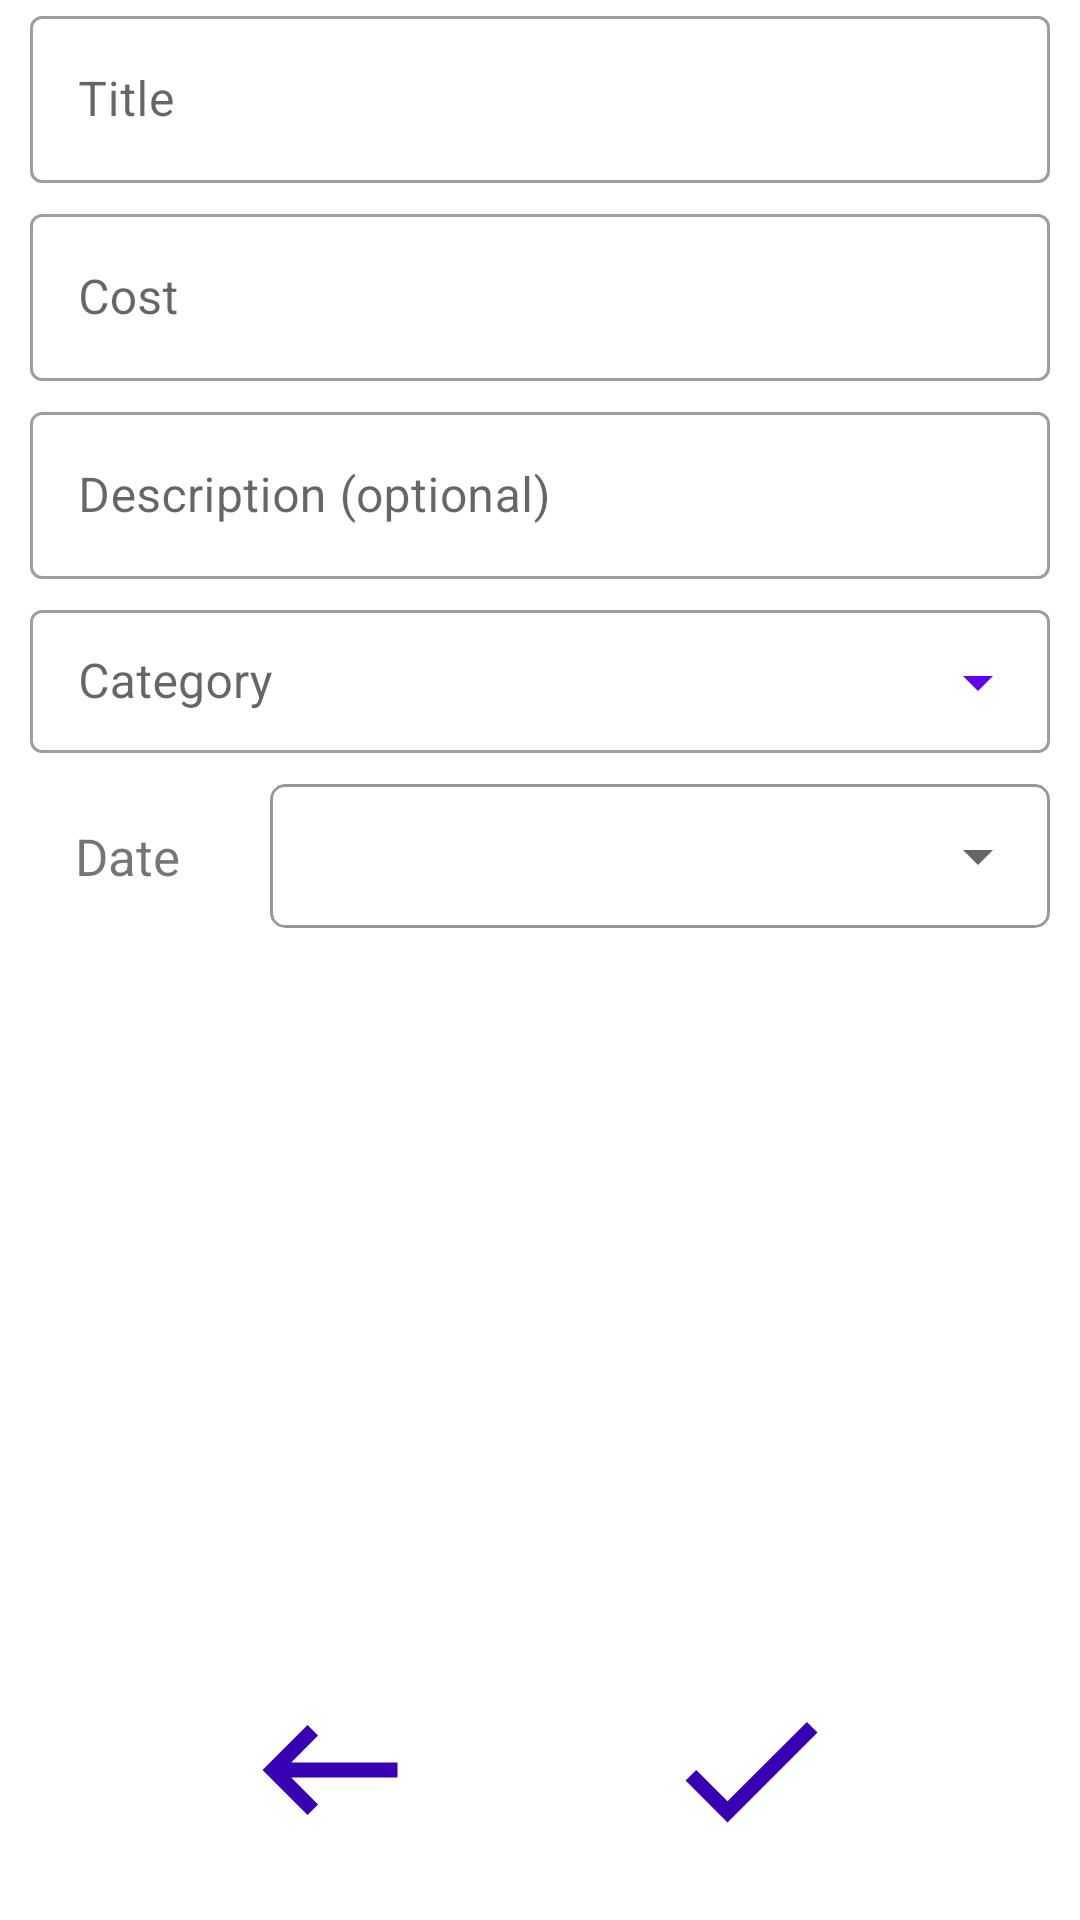

Screen size 1080 x 1920. Icon name, then its box in pixels as {"x1": x1, "y1": y1, "x2": x2, "y2": y2}:
back: {"x1": 262, "y1": 1725, "x2": 398, "y2": 1815}
